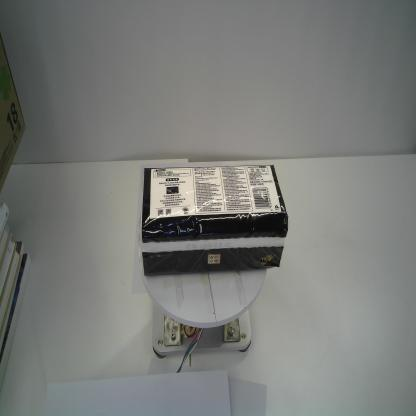Tissue: (138, 161, 291, 279)
